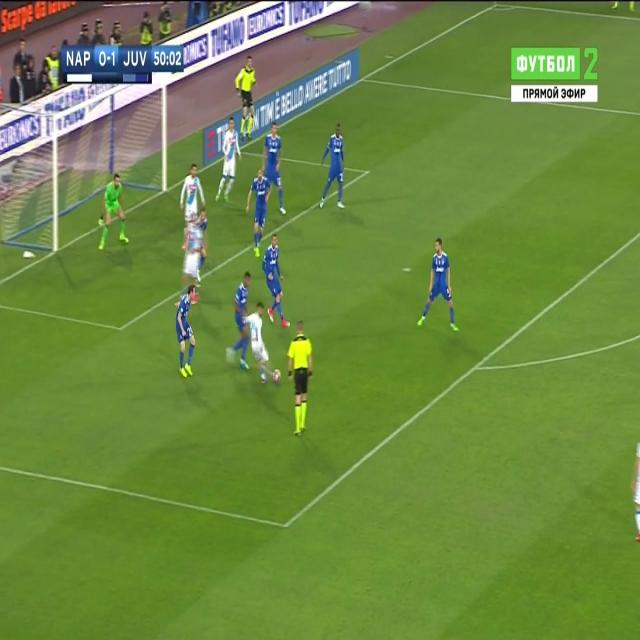Ball: (271, 364, 284, 388)
Goalkeeper: (96, 170, 131, 260)
Player: (417, 238, 459, 338), (260, 232, 293, 327), (224, 269, 253, 373), (317, 120, 348, 212), (214, 116, 244, 205), (261, 123, 289, 216), (246, 165, 272, 260), (175, 283, 199, 381), (178, 162, 210, 230), (245, 301, 270, 382)
Referee: (286, 319, 314, 442), (235, 54, 258, 142)
